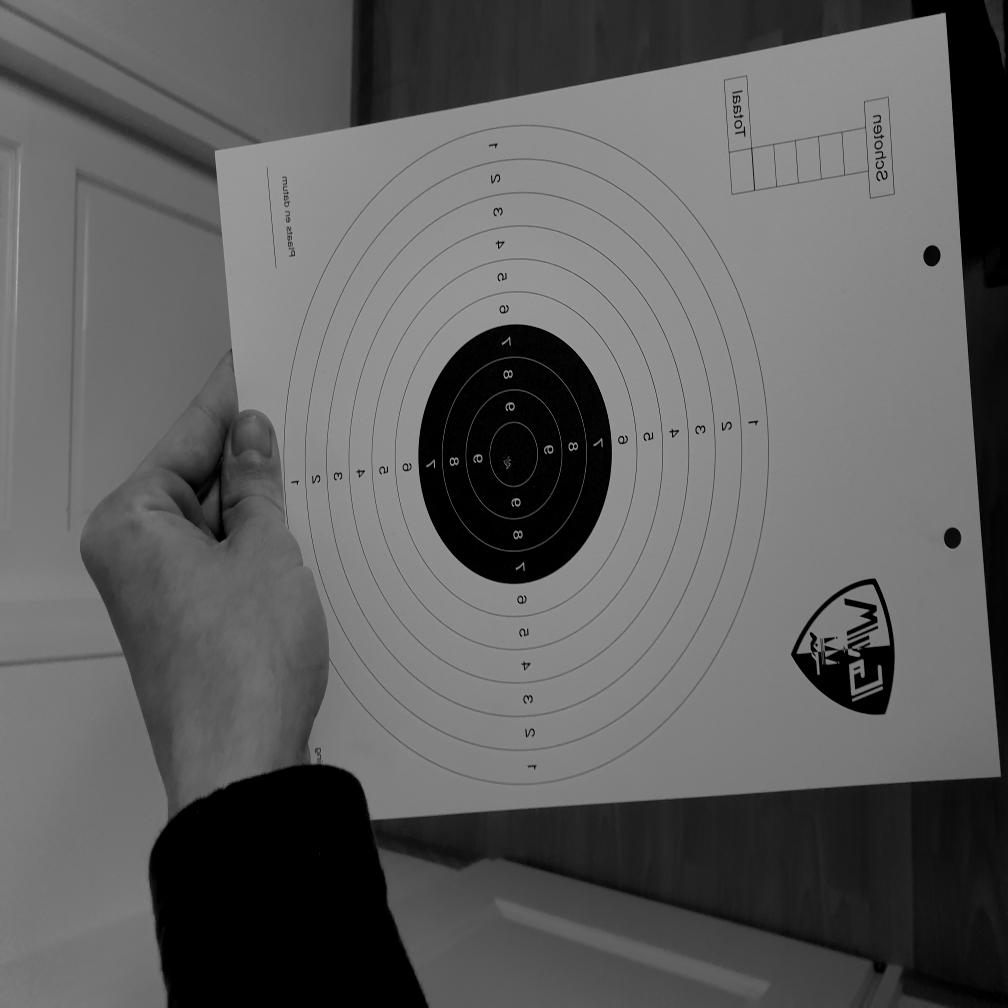10: (500, 454, 514, 474)
Target: (284, 124, 770, 790)
black_contour: (418, 324, 612, 584)
